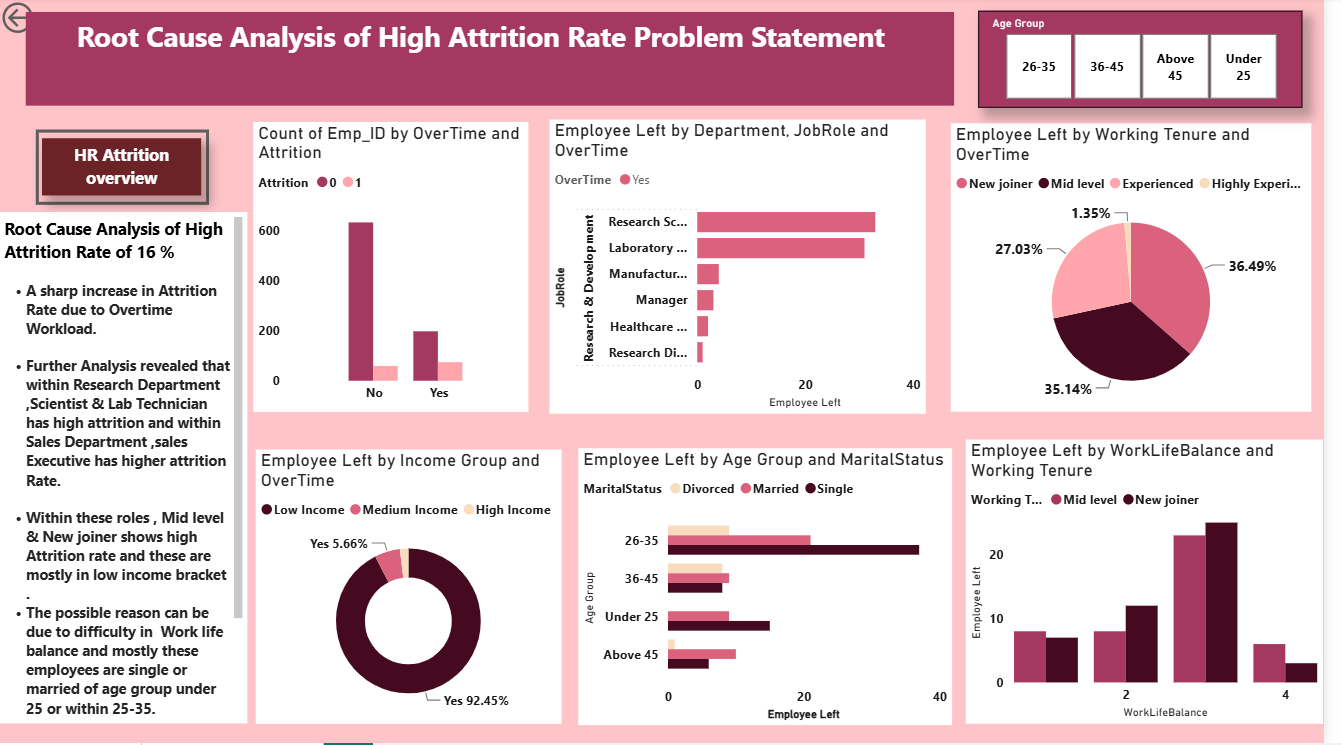

The page's visual inventory and layout, read from the dashboard file:
{"tool":"powerbi","page":{"name":"Root cause analysis","canvas":[1280,720],"ordinal":1},"visuals":[{"type":"clusteredColumnChart","fields":{"Category":["HR_Project_Power BI (3).OverTime"],"Series":["HR_Project_Power BI (3).Attrition"],"Y":["CountNonNull(HR_Project_Power BI (3).Emp_ID)"]},"box":[247,120.8,265.9,279.9],"z":0},{"type":"barChart","fields":{"Category":["HR_Project_Power BI (3).Department","HR_Project_Power BI (3).JobRole"],"Y":["HR_Project_Power BI (3).Employee Left"],"Series":["HR_Project_Power BI (3).OverTime"]},"box":[533.8,118,363.1,284],"z":1000},{"type":"pieChart","fields":{"Category":["HR_Project_Power BI (3).Working Tenure","HR_Project_Power BI (3).JobRole"],"Y":["HR_Project_Power BI (3).Employee Left"],"Series":["HR_Project_Power BI (3).OverTime"]},"box":[921,122.1,348.3,278.6],"z":2000},{"type":"clusteredColumnChart","fields":{"Category":["HR_Project_Power BI (3).WorkLifeBalance"],"Y":["HR_Project_Power BI (3).Employee Left"],"Series":["HR_Project_Power BI (3).Working Tenure"]},"box":[935.6,427.3,344.4,274.4],"z":3000},{"type":"actionButton","box":[0,0,100,40],"z":4000},{"type":"donutChart","fields":{"Category":["HR_Project_Power BI (3).Income Group"],"Y":["HR_Project_Power BI (3).Employee Left"],"Series":["HR_Project_Power BI (3).OverTime"]},"box":[249.7,436.4,295,264.8],"z":5000},{"type":"clusteredBarChart","fields":{"Category":["HR_Project_Power BI (3).Age Group"],"Series":["HR_Project_Power BI (3).MaritalStatus"],"Y":["HR_Project_Power BI (3).Employee Left"]},"box":[561,435,360.9,267.6],"z":6000},{"type":"slicer","fields":{"Values":["HR_Project_Power BI (3).Age Group"]},"box":[946.8,13.7,312.9,93.3],"z":7000},{"type":"actionButton","box":[37.3,127.6,167.4,72.7],"z":8000},{"type":"textbox","box":[2.7,207.2,239.6,494],"z":9000},{"type":"textbox","box":[43.6,136.4,153.7,54.9],"z":10000},{"type":"textbox","box":[27.4,14,896.1,90.6],"z":11000}]}

Visuals, with their boxes in screenshot pixels (x1, y1, x2, y2), scaled from the page's 1280x720 canvas onto the 1342x745 screenshot:
clusteredColumnChart - HR_Project_Power BI (3).OverTime x HR_Project_Power BI (3).Attrition: left=259, top=125, right=538, bottom=415
barChart - HR_Project_Power BI (3).Department x HR_Project_Power BI (3).JobRole: left=560, top=122, right=940, bottom=416
pieChart - HR_Project_Power BI (3).Working Tenure x HR_Project_Power BI (3).JobRole: left=966, top=126, right=1331, bottom=415
clusteredColumnChart - HR_Project_Power BI (3).WorkLifeBalance x HR_Project_Power BI (3).Employee Left: left=981, top=442, right=1341, bottom=726
actionButton: left=0, top=0, right=105, bottom=41
donutChart - HR_Project_Power BI (3).Income Group x HR_Project_Power BI (3).Employee Left: left=262, top=452, right=571, bottom=726
clusteredBarChart - HR_Project_Power BI (3).Age Group x HR_Project_Power BI (3).MaritalStatus: left=588, top=450, right=967, bottom=727
slicer - HR_Project_Power BI (3).Age Group: left=993, top=14, right=1321, bottom=111
actionButton: left=39, top=132, right=215, bottom=207
textbox: left=3, top=214, right=254, bottom=726
textbox: left=46, top=141, right=207, bottom=198
textbox: left=29, top=14, right=968, bottom=108
